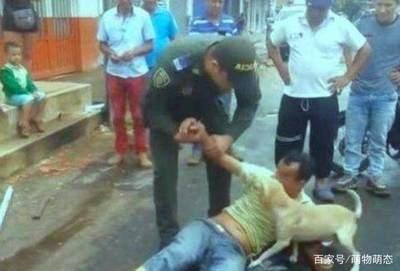Fall-Detected: (64, 144, 331, 268)
